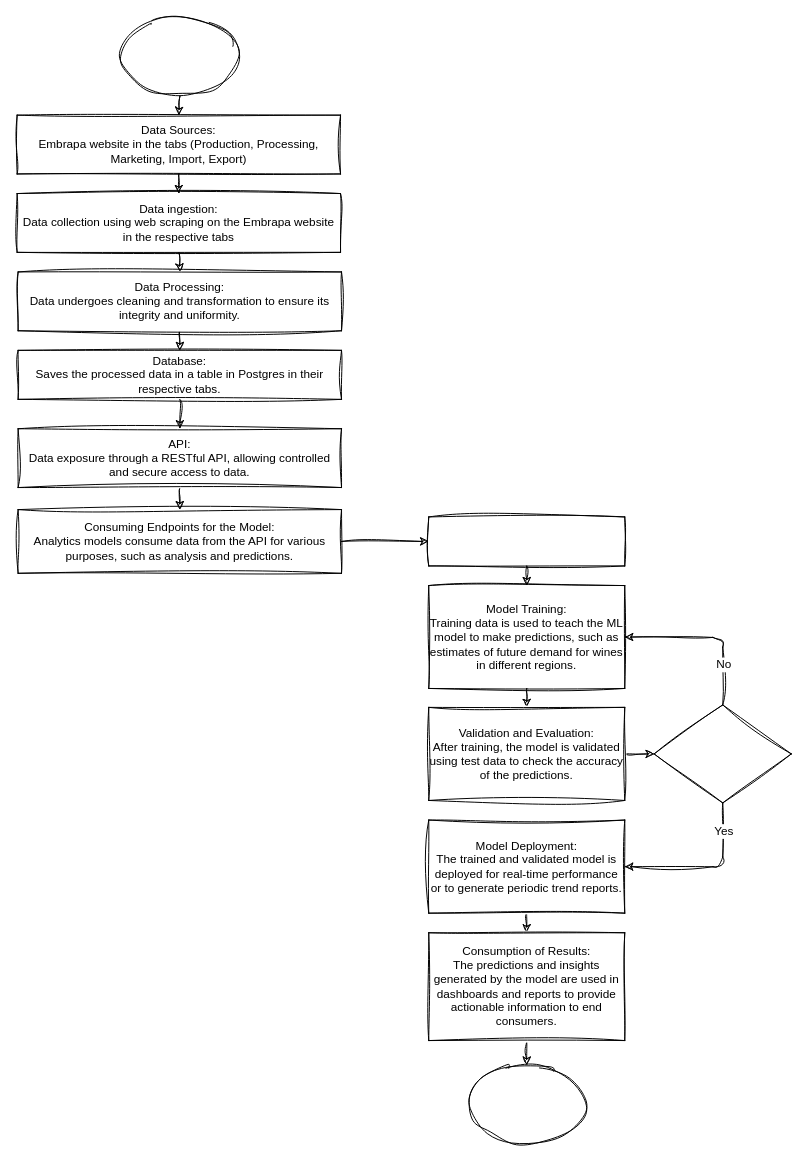
Image size: 809x1161. Some labels were removed from this diagram. The shapes that lost their labels are listed below. From the top down, each one's centre as x and y in pixels, then its label:
the point at 179,56: Start Data collection
the point at 526,541: Data Preprocessing: Cleaning, Normalization
the point at 722,753: Satisfactory performance
the point at 526,1103: End Consumption of Results
